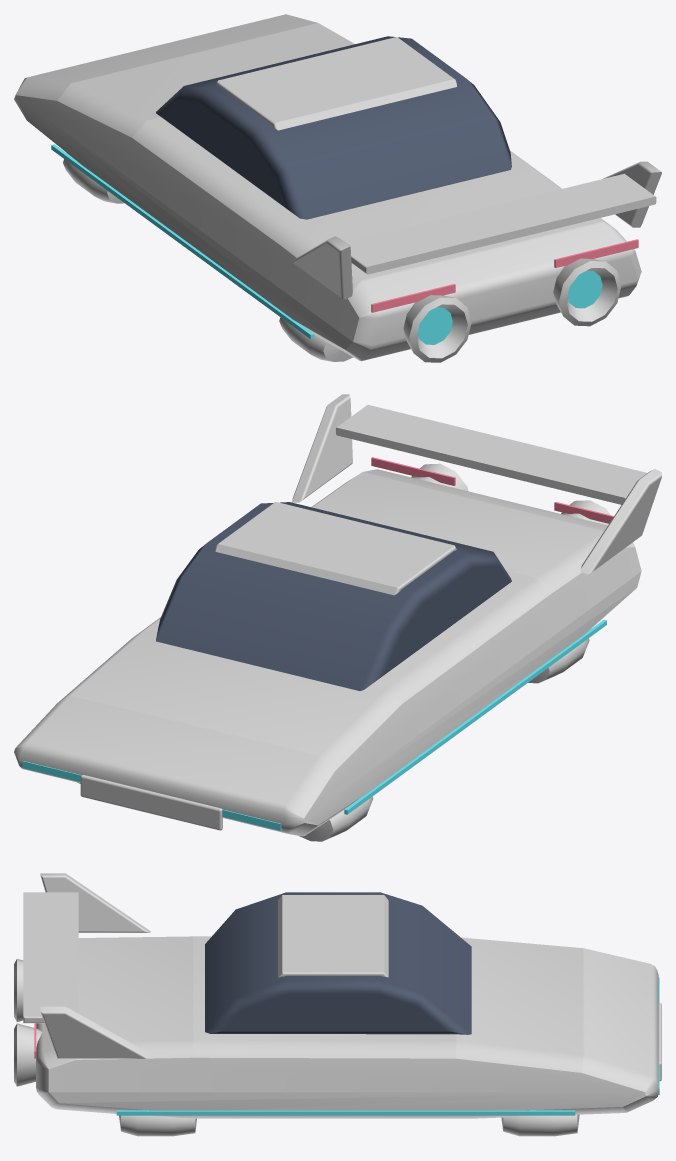
The model's file is HoverCar.glb.
The picture shows the model from 3 angles, top to bottom: view 1: azimuth 30°, elevation 25°; view 2: azimuth 150°, elevation 25°; view 3: azimuth 270°, elevation 25°; orthographic projection. The views are drawn at different scales.
Parts seen in each view (by area): view 1: Body, Glass, Glow, Tail; view 2: Body, Glass, Glow, Tail; view 3: Body, Glass, Glow.
Part boxes in pixels (box(x1,y1,x2,y2)): Body: box(14, 14, 661, 362); Glass: box(156, 36, 511, 219); Glow: box(51, 144, 602, 344); Tail: box(371, 239, 638, 312); Body: box(14, 394, 661, 841); Glass: box(156, 502, 511, 690); Glow: box(22, 620, 606, 830); Tail: box(371, 457, 613, 523); Body: box(14, 873, 661, 1136); Glass: box(205, 892, 471, 1034); Glow: box(116, 977, 659, 1115).
Size of the model in its own units: 7.77 by 4 by 15.26.
